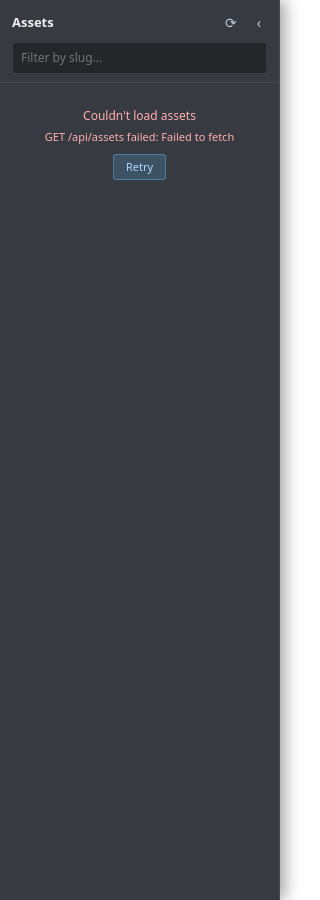
Test: AssetBrowser › renders error state on fetch rejection; retry button re-fetches
Expected: the element with test id "asset-browser-error" is shown, [45,107,234,180]
Click the button with test id "asset-browser-retry" at (140, 167), box [113,154,166,180]
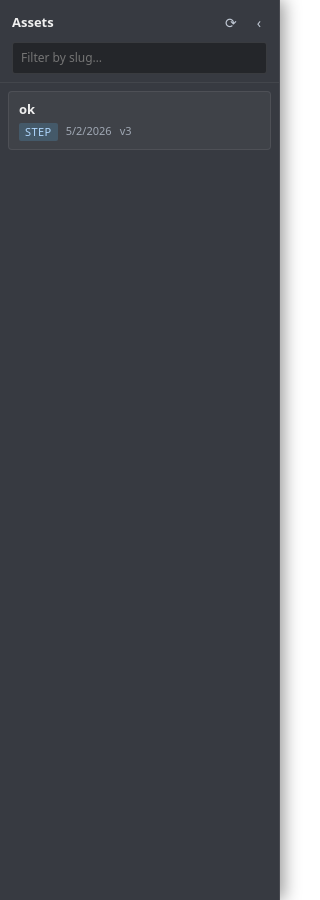
Expected: the text "ok" is shown, [19,100,35,120]
